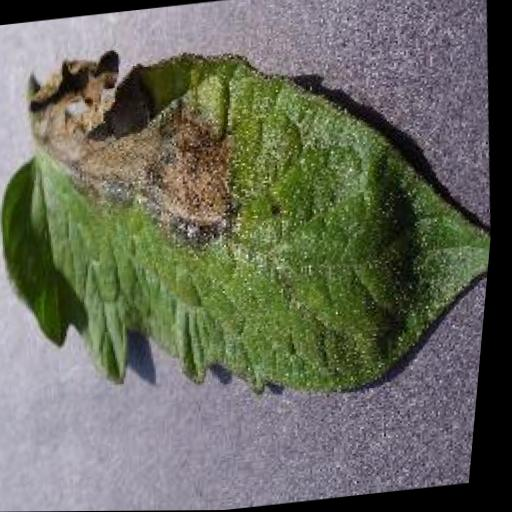Late Blight: (0, 7, 511, 433)
